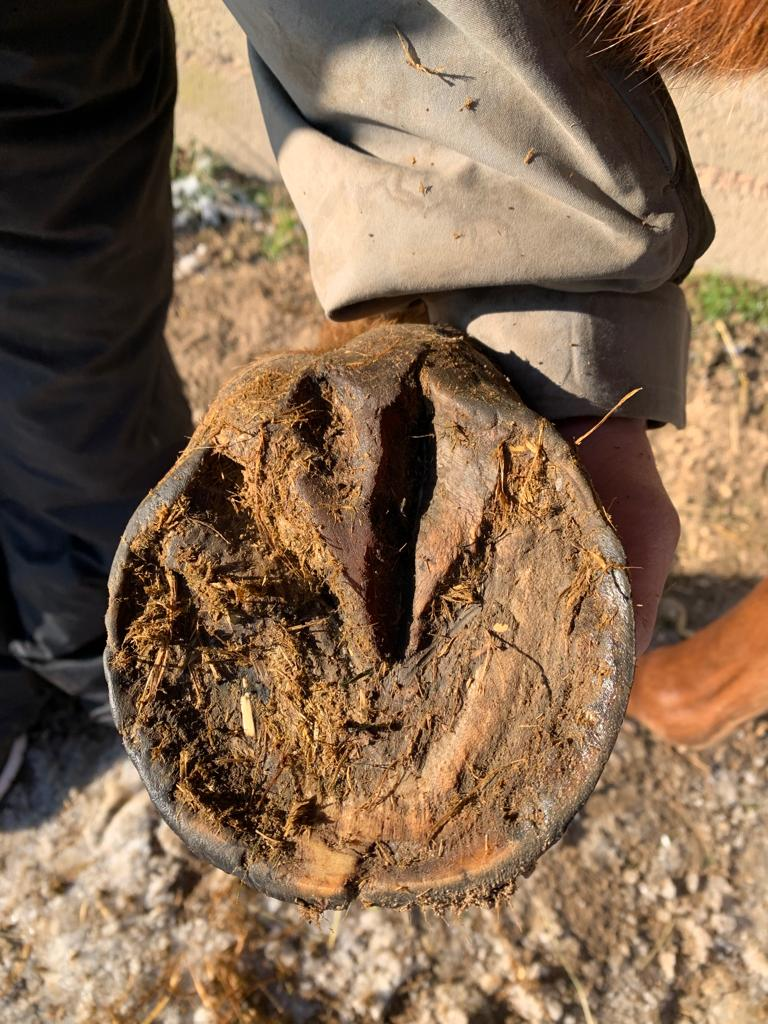horsesole: (104, 378, 634, 910)
